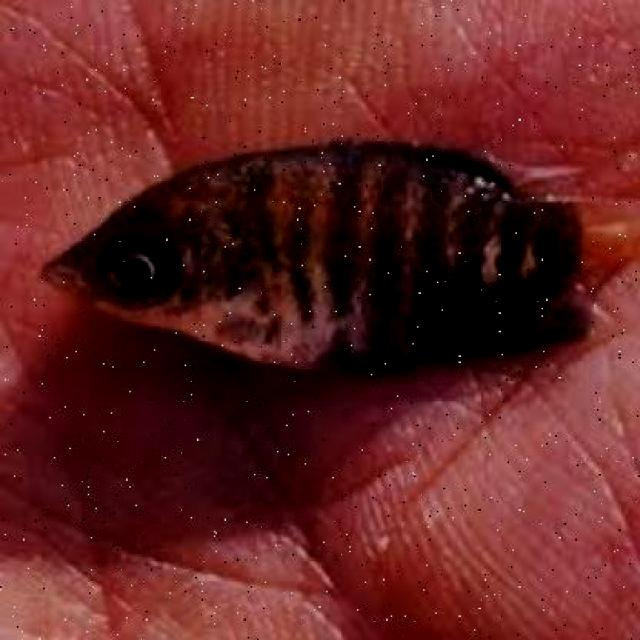gurame: (37, 138, 588, 376)
